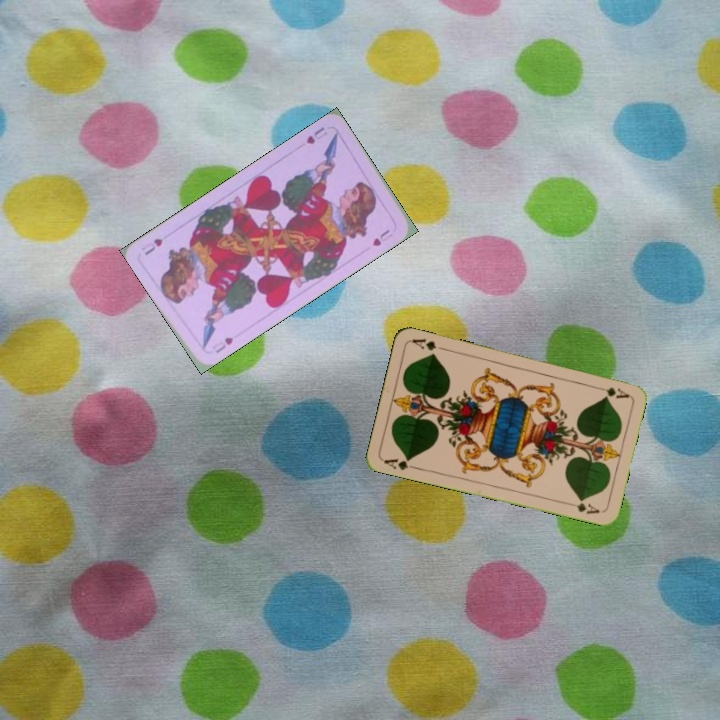GA: (380, 454, 420, 473), (591, 383, 631, 401)
HU: (302, 122, 330, 147), (208, 333, 236, 356)
